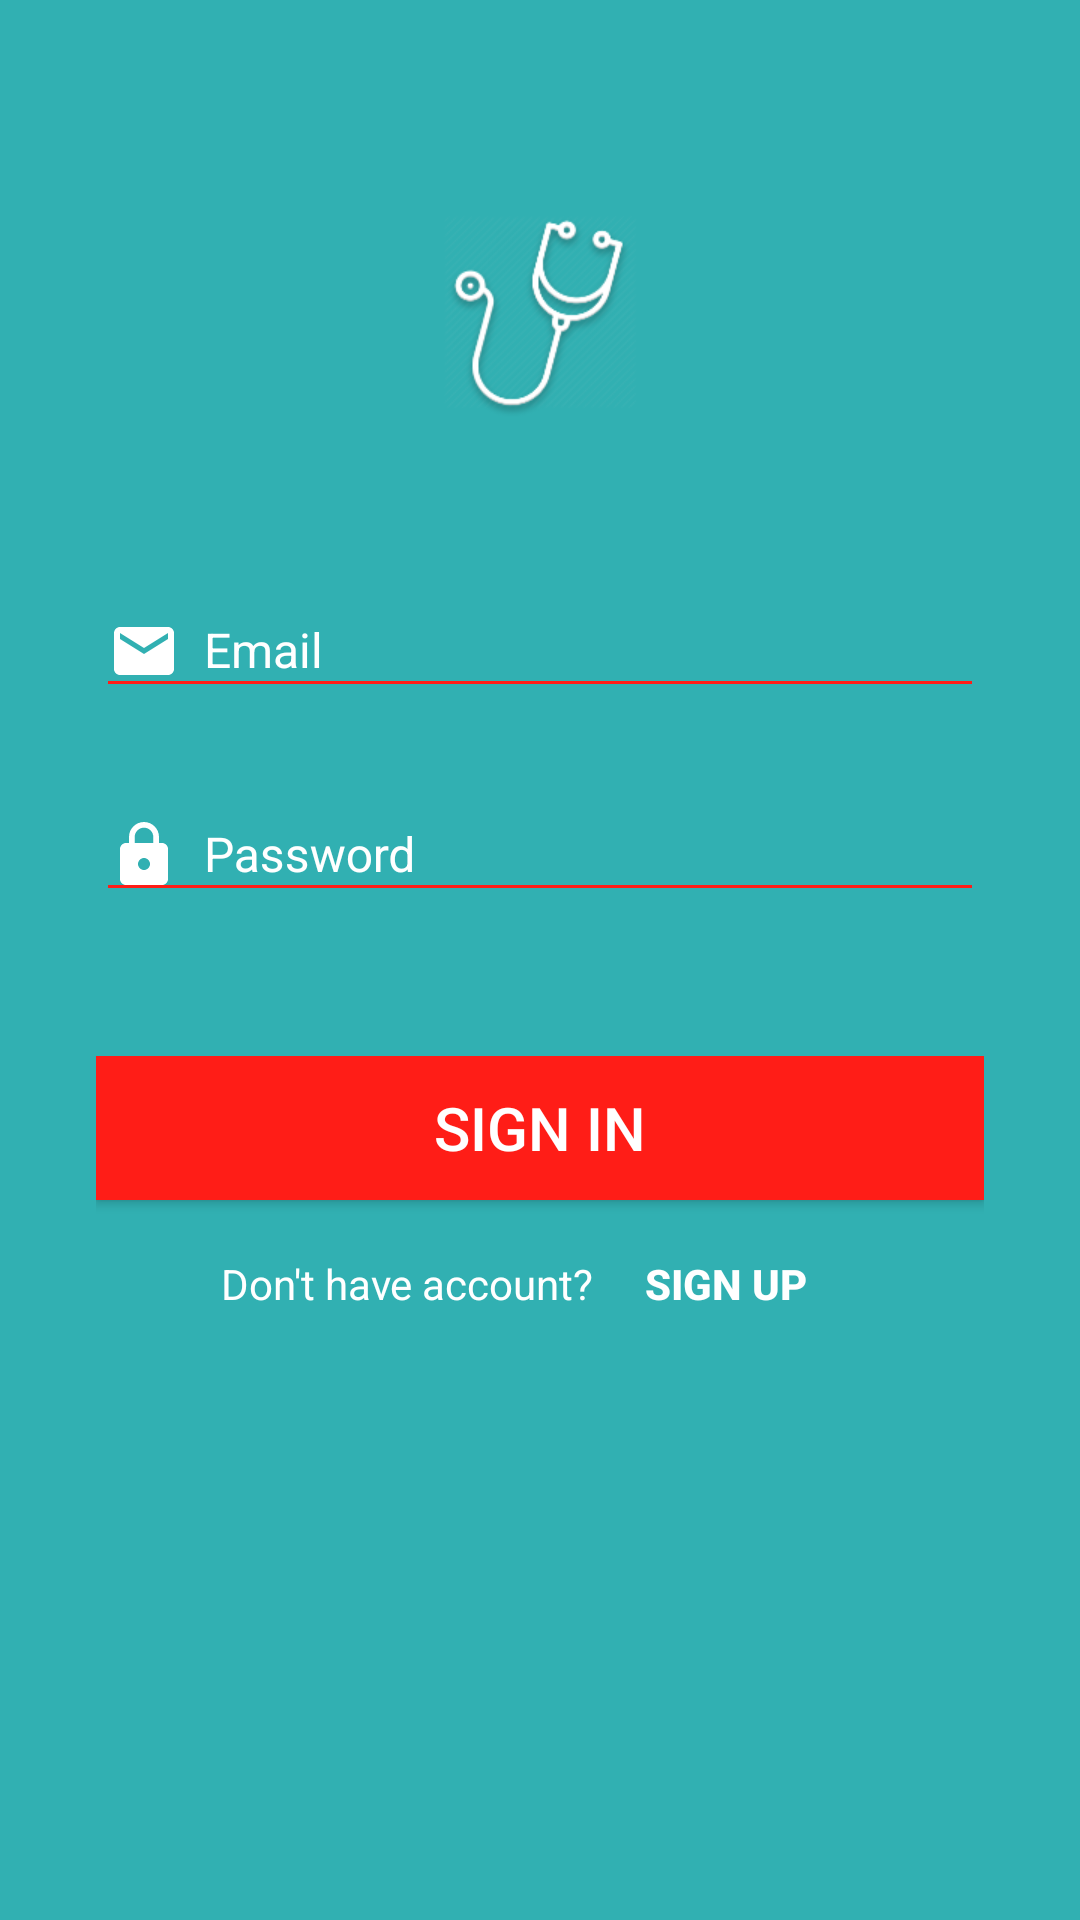

Point at icon controls on the screen. Image size 1080×1920, points as point (x, y).
stethoscope: point (538, 314)
